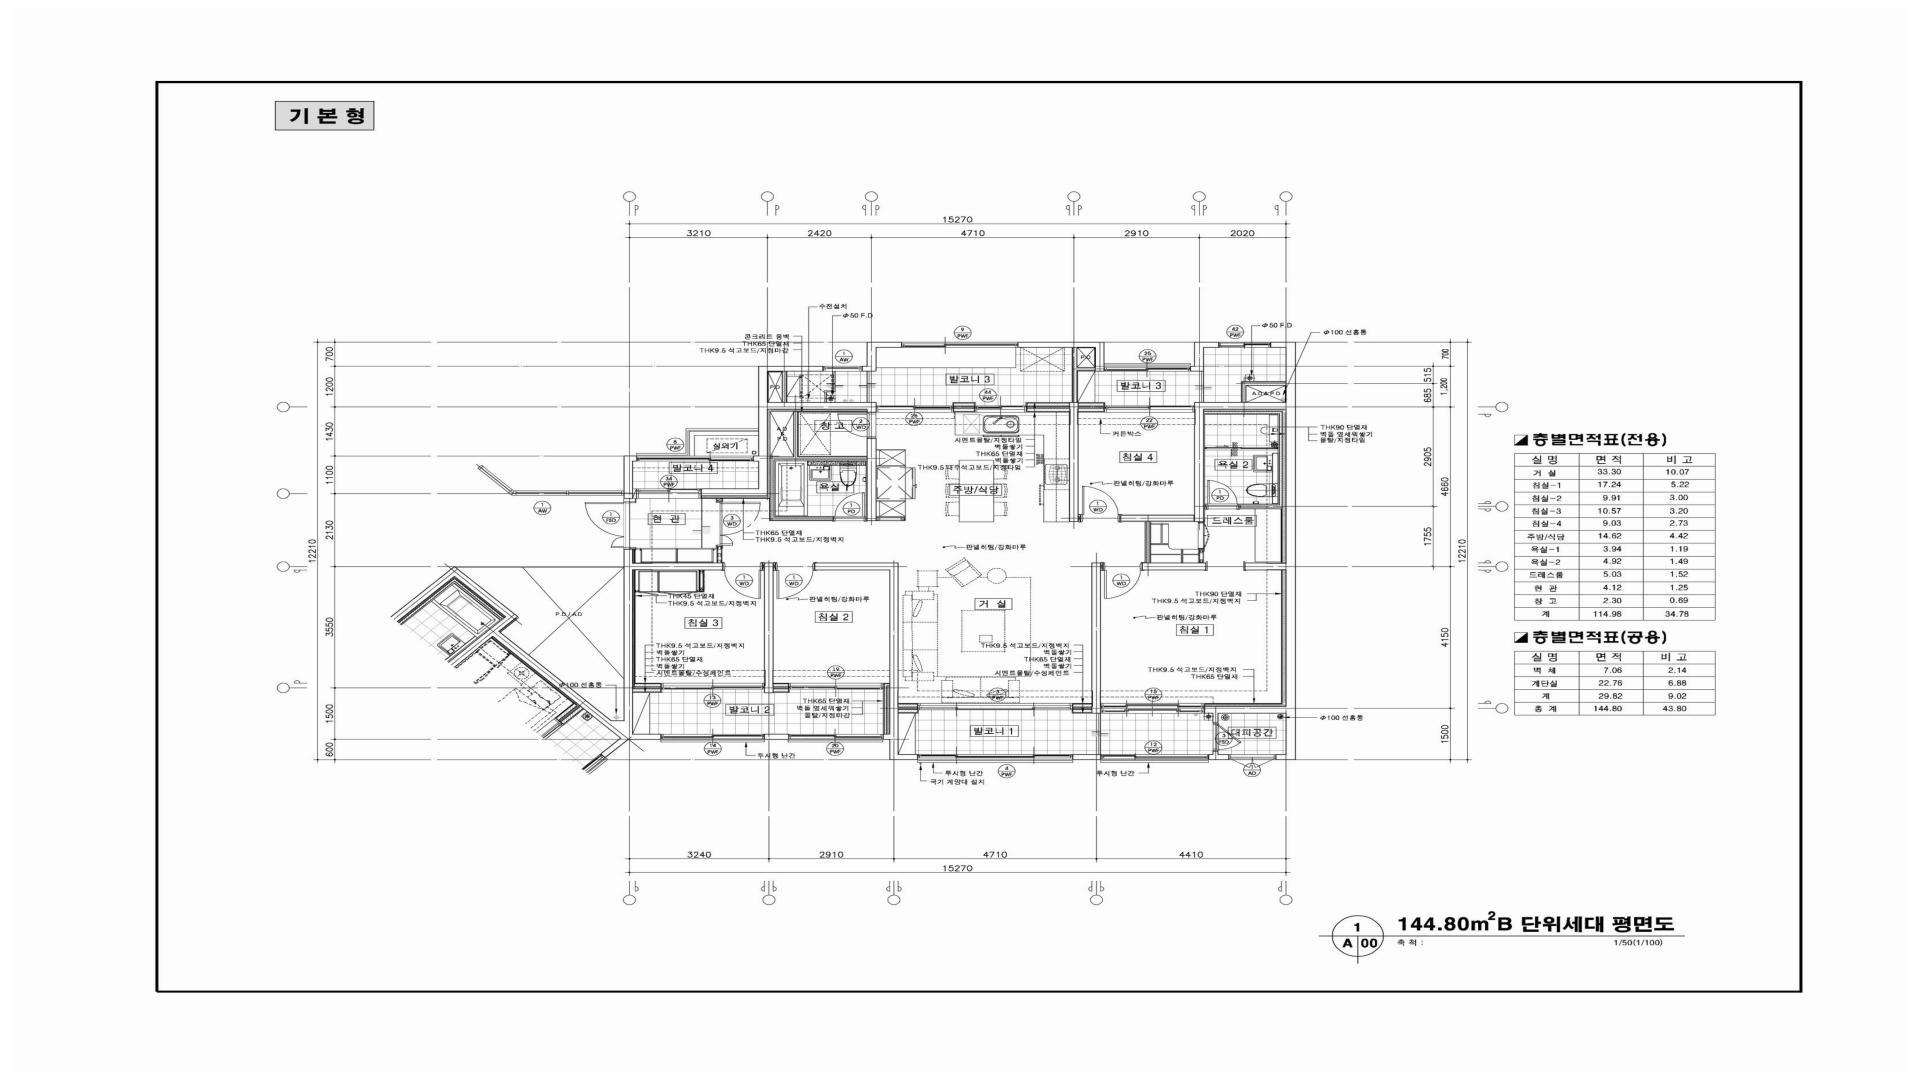door: (584, 501, 629, 549), (717, 501, 761, 546), (1102, 562, 1142, 600), (775, 562, 815, 599), (723, 562, 762, 599), (1081, 485, 1121, 522), (837, 413, 876, 438), (833, 492, 865, 521), (1207, 480, 1238, 509), (1213, 723, 1241, 750), (1205, 447, 1278, 450)
wall: (448, 549, 723, 742), (1195, 342, 1296, 760), (690, 367, 876, 496), (815, 563, 918, 760), (1018, 342, 1105, 372), (1092, 563, 1104, 713), (762, 563, 775, 692), (1069, 402, 1081, 522), (862, 342, 902, 372), (1189, 342, 1220, 372), (866, 438, 877, 521), (624, 456, 637, 501), (1121, 514, 1195, 522), (1142, 563, 1207, 571), (770, 456, 866, 460), (1279, 411, 1283, 505), (1072, 348, 1079, 402), (770, 460, 774, 520), (455, 566, 624, 567), (885, 683, 889, 735), (1204, 411, 1279, 414), (1208, 750, 1229, 760), (794, 411, 798, 456), (1026, 402, 1069, 406), (1026, 407, 1069, 411), (1146, 522, 1150, 563), (1246, 381, 1286, 385), (774, 517, 833, 520), (1073, 754, 1101, 760), (765, 735, 789, 740), (699, 570, 704, 592), (1240, 505, 1283, 508), (877, 517, 906, 521), (633, 688, 661, 692), (634, 683, 662, 687), (1079, 407, 1105, 411), (1079, 402, 1105, 406), (1241, 382, 1246, 402), (953, 407, 975, 411), (953, 402, 975, 406), (898, 703, 918, 707), (1072, 703, 1092, 707), (1199, 549, 1204, 563), (717, 546, 721, 563), (774, 683, 789, 687), (774, 688, 789, 692), (898, 709, 918, 712), (1072, 709, 1092, 712), (1077, 368, 1096, 371), (633, 489, 637, 498)
window: (637, 429, 758, 455), (918, 754, 1073, 762), (477, 465, 514, 496), (1101, 703, 1204, 713), (918, 703, 1072, 709), (1101, 754, 1209, 762), (661, 735, 765, 742), (1105, 363, 1191, 372), (902, 342, 1018, 348), (789, 735, 884, 742), (1105, 405, 1195, 413), (1229, 754, 1275, 769), (662, 683, 764, 690), (789, 683, 884, 690), (637, 456, 753, 462), (637, 489, 702, 498), (876, 406, 953, 413), (1218, 342, 1270, 348), (975, 406, 1026, 413), (512, 491, 568, 496), (568, 491, 624, 496), (823, 367, 862, 372)
